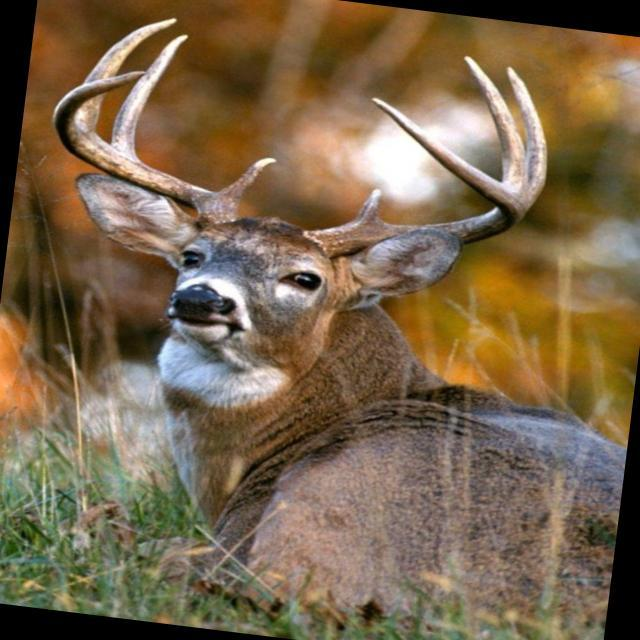L-F: (304, 97, 527, 257)
L-G1: (354, 188, 386, 223)
L-G3: (463, 55, 528, 202)
R-F: (52, 71, 240, 225)
R-G1: (216, 157, 276, 206)
R-G2: (110, 34, 189, 162)
